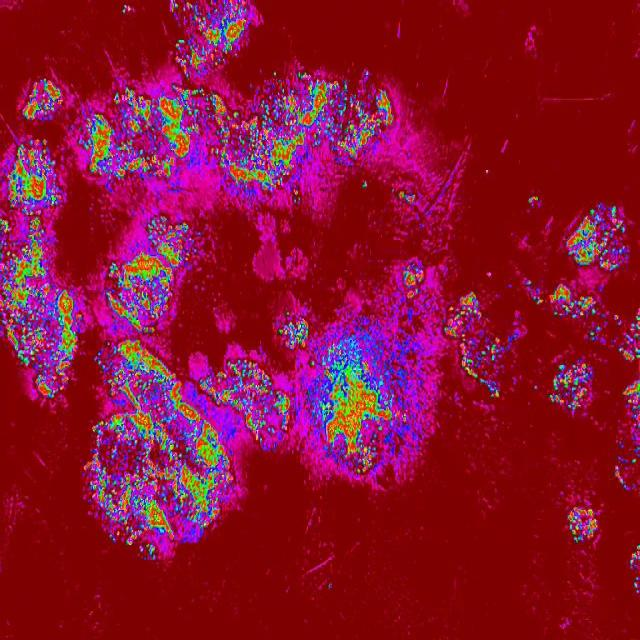fire: (89, 339, 238, 565), (221, 67, 395, 202), (0, 131, 86, 404), (308, 307, 427, 483), (86, 80, 222, 190), (105, 214, 203, 340), (446, 288, 517, 404), (168, 0, 259, 75), (522, 280, 610, 344), (566, 200, 634, 280), (239, 357, 295, 454), (613, 306, 640, 496), (546, 358, 598, 418), (22, 77, 62, 121), (396, 258, 428, 304), (276, 306, 308, 352), (568, 506, 600, 543), (628, 544, 640, 598), (397, 187, 415, 205), (525, 194, 543, 208), (120, 2, 134, 16), (532, 384, 540, 394), (484, 167, 488, 175)
